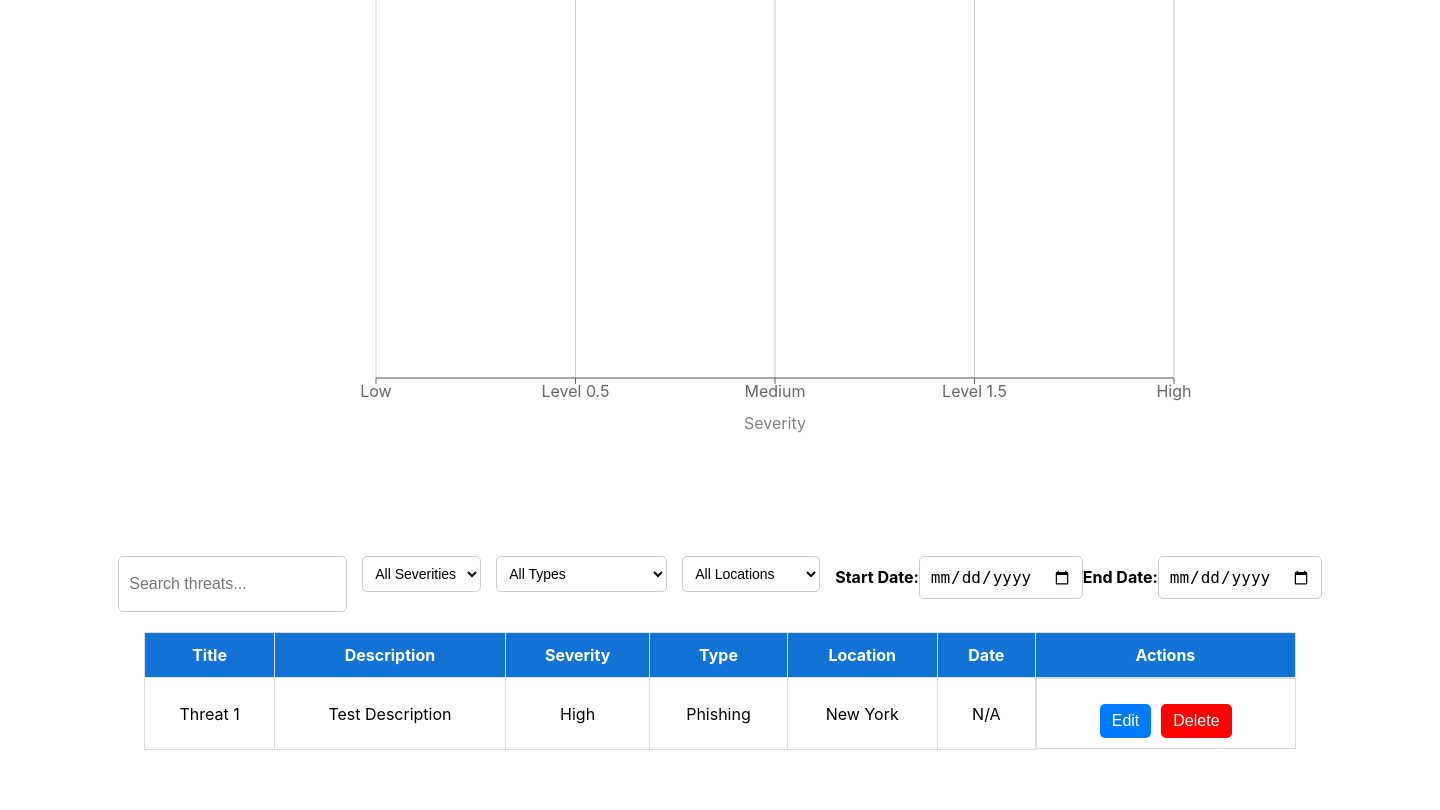
Dashboard Component › opens edit modal on edit button click
(page scrolled)
Click the button "Edit" at [1126, 721], box [1100,704,1151,738]
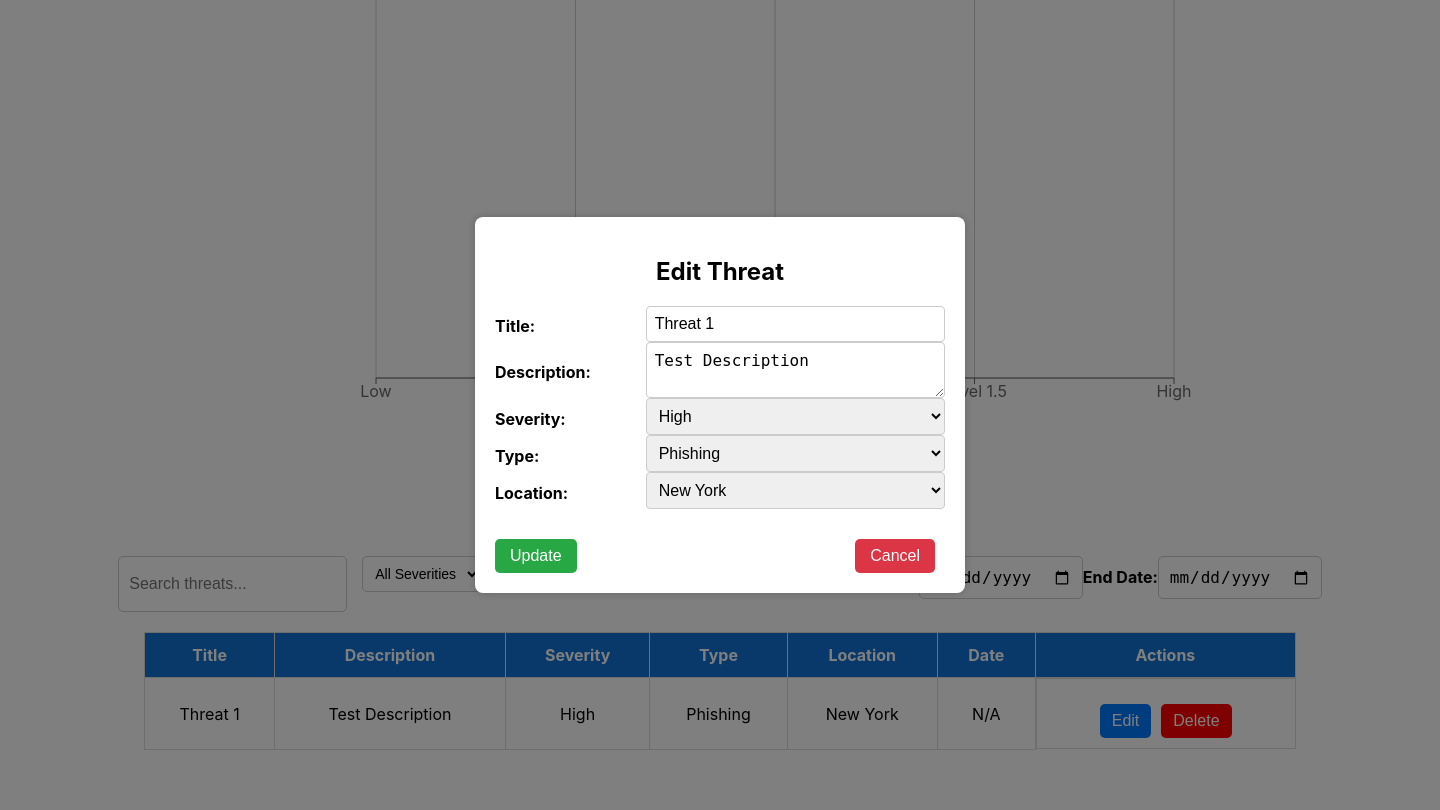
Now the heading "Edit Threat" is shown, box [656,257,784,286]
